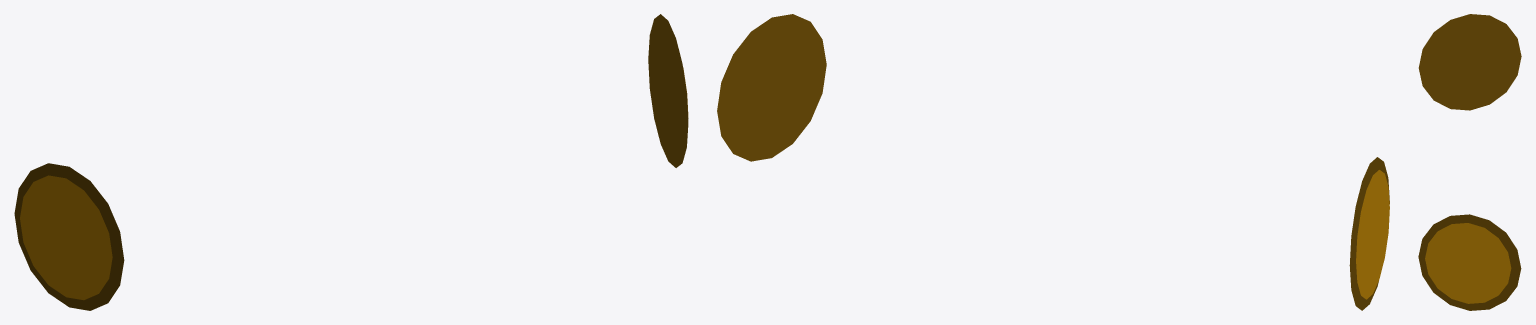
Rendered from christmas_tree_light_amber.dae.
3 views of the same model, side by side, from view 1: azimuth 30°, elevation 25°; view 2: azimuth 150°, elevation 25°; view 3: azimuth 270°, elevation 25° (orthographic). The views are drawn at different scales.
Parts seen in each view (by area): view 1: christmas_tree_green_a03; view 2: christmas_tree_green_a03; view 3: christmas_tree_green_a03.
Part boxes in pixels (bbox=[...]): christmas_tree_green_a03: bbox=[14, 14, 688, 310]; christmas_tree_green_a03: bbox=[717, 14, 1389, 310]; christmas_tree_green_a03: bbox=[1418, 14, 1521, 310].
Bounding box in the file's own units: 0.7292 × 0.1498 × 0.1547.
